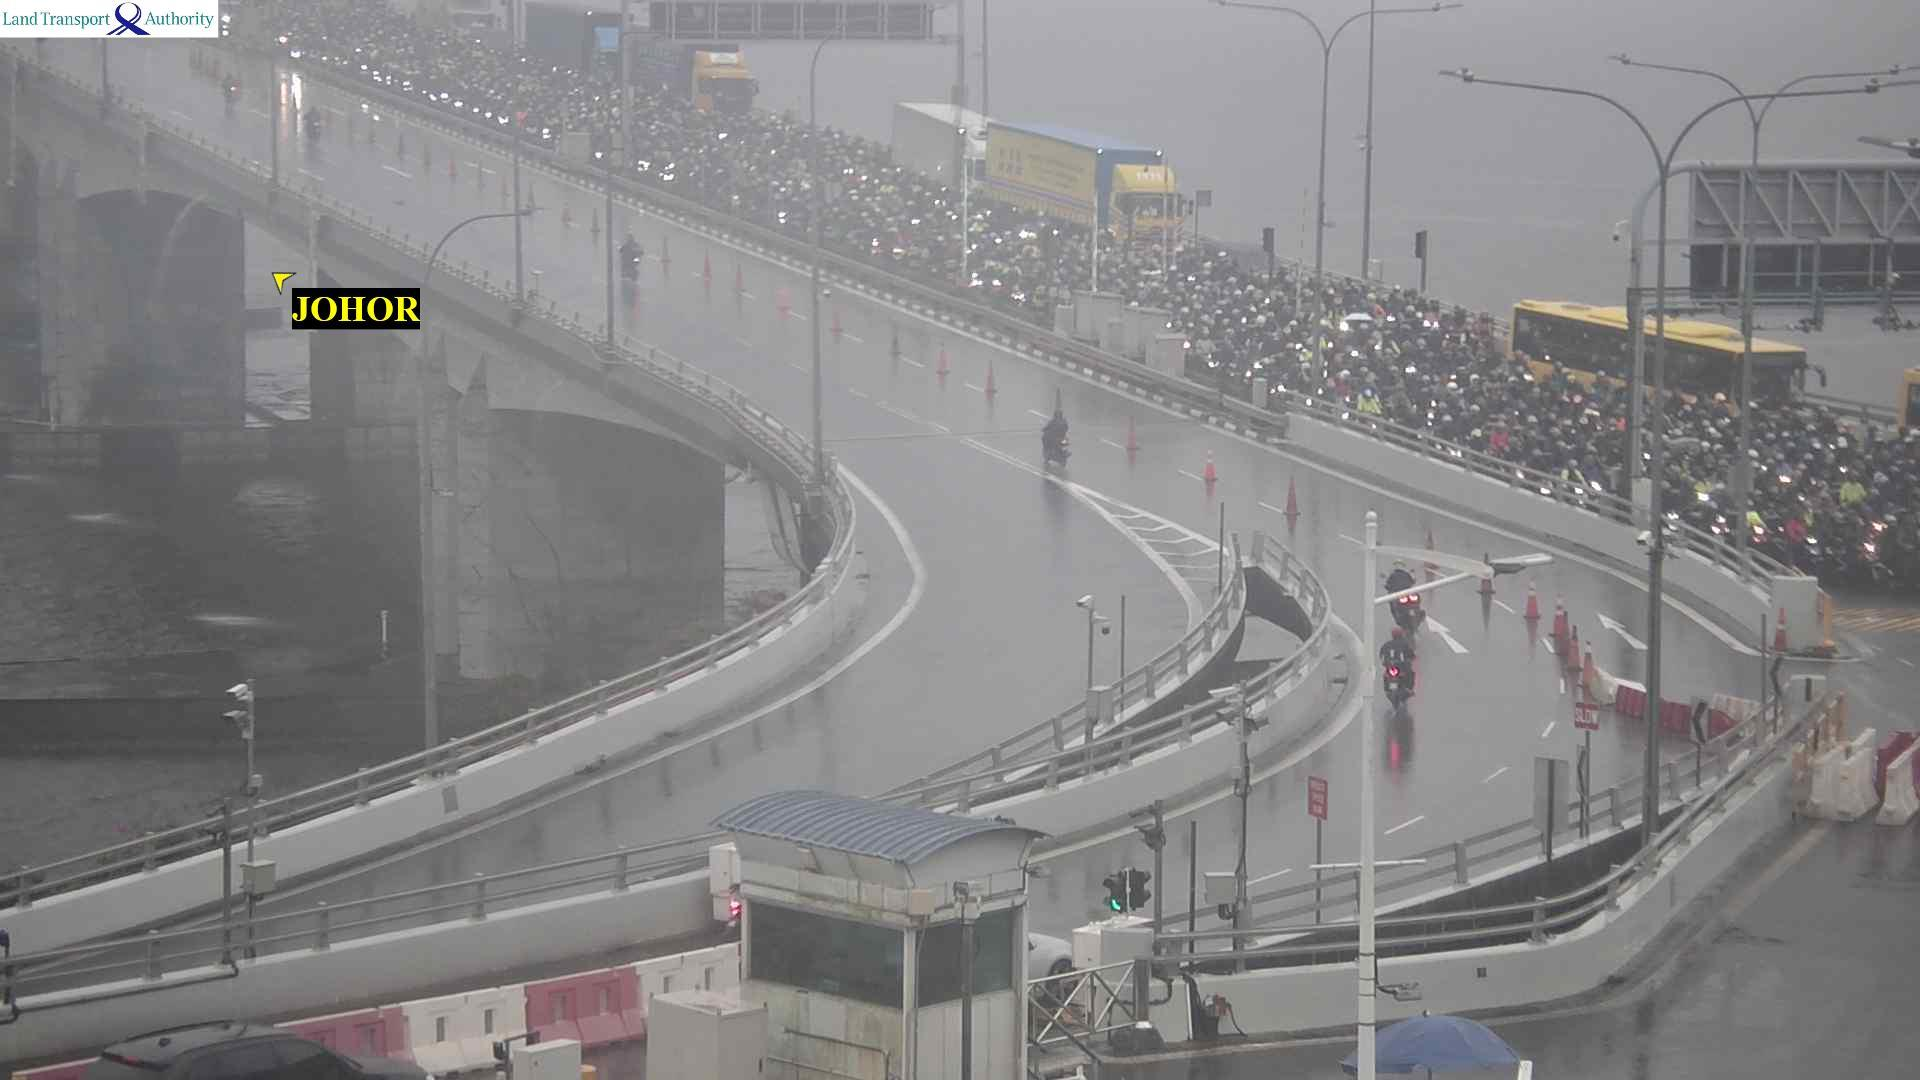vehicle-secondlink-johor: (1040, 410, 1069, 464), (618, 231, 640, 278), (305, 102, 323, 138), (220, 73, 237, 103)
vehicle-secondlink-singapore: (1513, 299, 1811, 423), (982, 123, 1185, 237), (628, 37, 756, 113), (898, 102, 993, 193), (525, 4, 636, 76), (1903, 364, 1920, 421), (1327, 368, 1357, 396), (1811, 479, 1834, 510), (1838, 468, 1857, 506), (1436, 377, 1460, 404), (1358, 384, 1377, 411), (1869, 472, 1890, 496), (1462, 405, 1482, 426), (1464, 369, 1482, 389), (1778, 440, 1796, 458), (1175, 293, 1195, 309), (1406, 363, 1423, 380), (1247, 314, 1266, 330), (1213, 301, 1229, 318), (1904, 433, 1919, 451), (1133, 278, 1151, 293), (1861, 452, 1874, 468), (1801, 452, 1815, 467), (1771, 451, 1782, 465), (1760, 433, 1768, 444)
